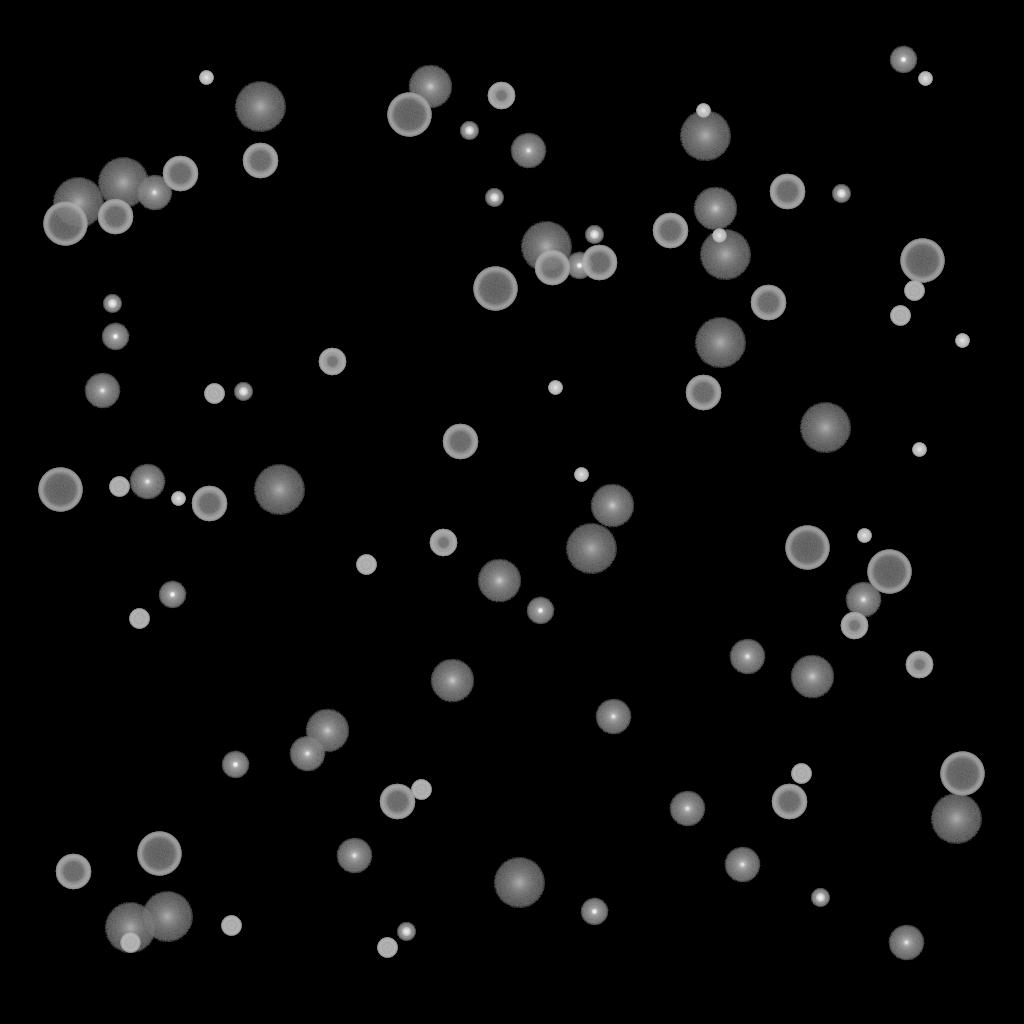depth:-10: (565, 252, 593, 280), (580, 898, 608, 926), (526, 597, 554, 625), (889, 46, 917, 74), (101, 323, 129, 351), (221, 751, 249, 779), (158, 581, 186, 609)
depth:-20: (460, 122, 478, 140), (485, 189, 503, 207), (234, 383, 252, 401), (103, 295, 121, 313), (811, 889, 829, 907), (397, 923, 415, 941), (585, 226, 603, 244), (832, 185, 850, 203)
depth:-30: (696, 104, 710, 118), (857, 529, 871, 543), (712, 229, 726, 243), (171, 492, 185, 506), (199, 71, 213, 85), (548, 381, 562, 395), (574, 468, 588, 482), (912, 443, 926, 457), (955, 334, 969, 348), (918, 72, 932, 86)
depth:-40: (129, 609, 149, 629), (890, 306, 910, 326), (356, 555, 376, 575), (109, 477, 129, 497), (904, 281, 924, 301), (791, 764, 811, 784), (204, 384, 224, 404), (120, 933, 140, 953), (377, 938, 397, 958), (221, 916, 241, 936), (411, 780, 431, 800)
depth:-50: (487, 82, 515, 110), (905, 651, 933, 679), (840, 612, 868, 640), (318, 348, 346, 376), (429, 529, 457, 557)
depth:-60: (242, 143, 278, 179), (534, 250, 570, 286), (652, 213, 688, 249), (379, 784, 415, 820), (442, 424, 478, 460), (750, 285, 786, 321), (191, 486, 227, 522), (769, 174, 805, 210), (771, 784, 807, 820), (97, 199, 133, 235), (581, 245, 617, 281), (162, 156, 198, 192), (55, 854, 91, 890), (685, 375, 721, 411)
depth:-70: (785, 526, 829, 570), (473, 267, 517, 311), (38, 468, 82, 512), (43, 202, 87, 246), (387, 93, 431, 137), (940, 752, 984, 796), (137, 832, 181, 876), (867, 550, 911, 594), (900, 239, 944, 283)
depth:0: (289, 736, 325, 772), (888, 925, 924, 961), (136, 175, 172, 211), (724, 847, 760, 883), (84, 373, 120, 409), (129, 464, 165, 500), (669, 791, 705, 827), (729, 639, 765, 675), (845, 582, 881, 618), (595, 699, 631, 735), (336, 838, 372, 874), (510, 133, 546, 169)
depth:10: (305, 709, 349, 753), (477, 559, 521, 603), (790, 655, 834, 699), (430, 659, 474, 703), (693, 187, 737, 231), (590, 484, 634, 528), (408, 65, 452, 109)
depth:20: (97, 158, 149, 208), (699, 230, 751, 280), (679, 111, 731, 161), (930, 794, 982, 844), (520, 222, 572, 272), (565, 524, 617, 574), (104, 903, 156, 953), (694, 318, 746, 368), (141, 892, 193, 942), (253, 465, 305, 515), (493, 858, 545, 908), (234, 82, 286, 132), (52, 178, 104, 228), (799, 403, 851, 453)
